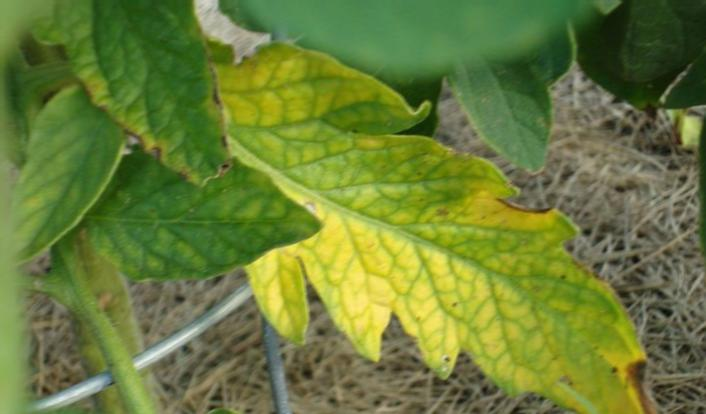Tomato mold leaf: (204, 37, 673, 414), (49, 0, 240, 190), (65, 151, 320, 286)
